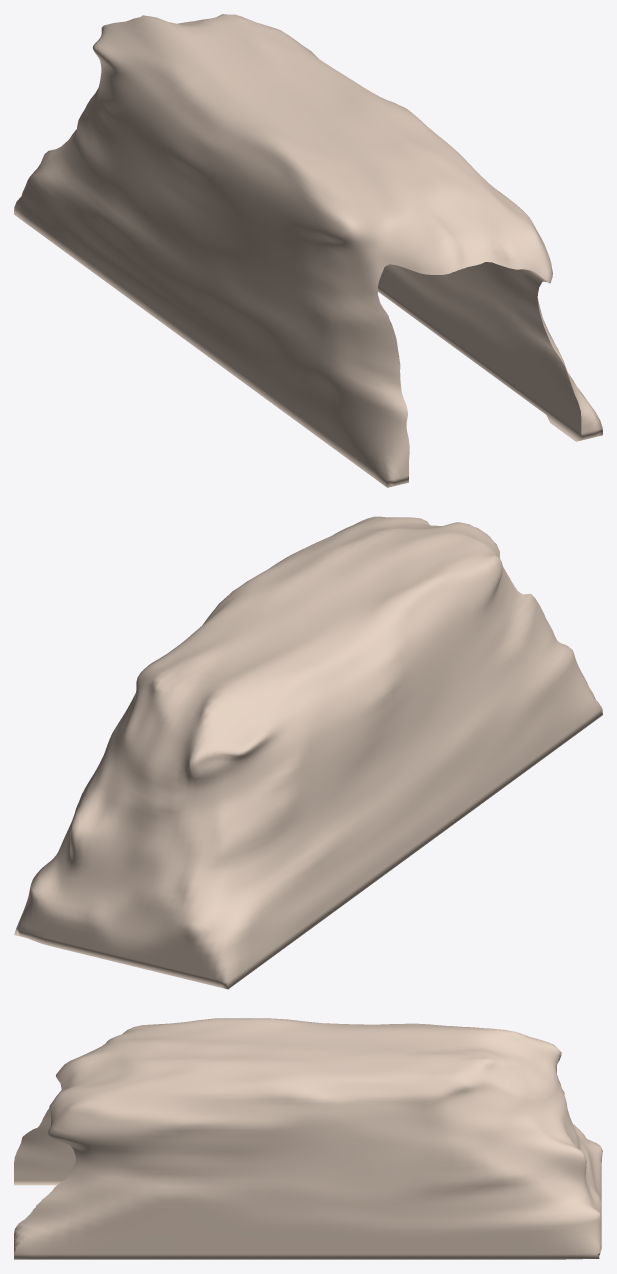
Rendered from Cave.fbx.
The picture shows the model from 3 angles, top to bottom: view 1: azimuth 30°, elevation 25°; view 2: azimuth 150°, elevation 25°; view 3: azimuth 270°, elevation 25°; orthographic projection. The views are drawn at different scales.
Visible parts, largest first — view 1: Cave; view 2: Cave; view 3: Cave.
Part boxes in pixels (x1,y1,x2,y2): Cave: [14, 14, 602, 487]; Cave: [14, 516, 602, 989]; Cave: [14, 1018, 602, 1259].
Size of the model in its own units: 752 by 748 by 2255.
